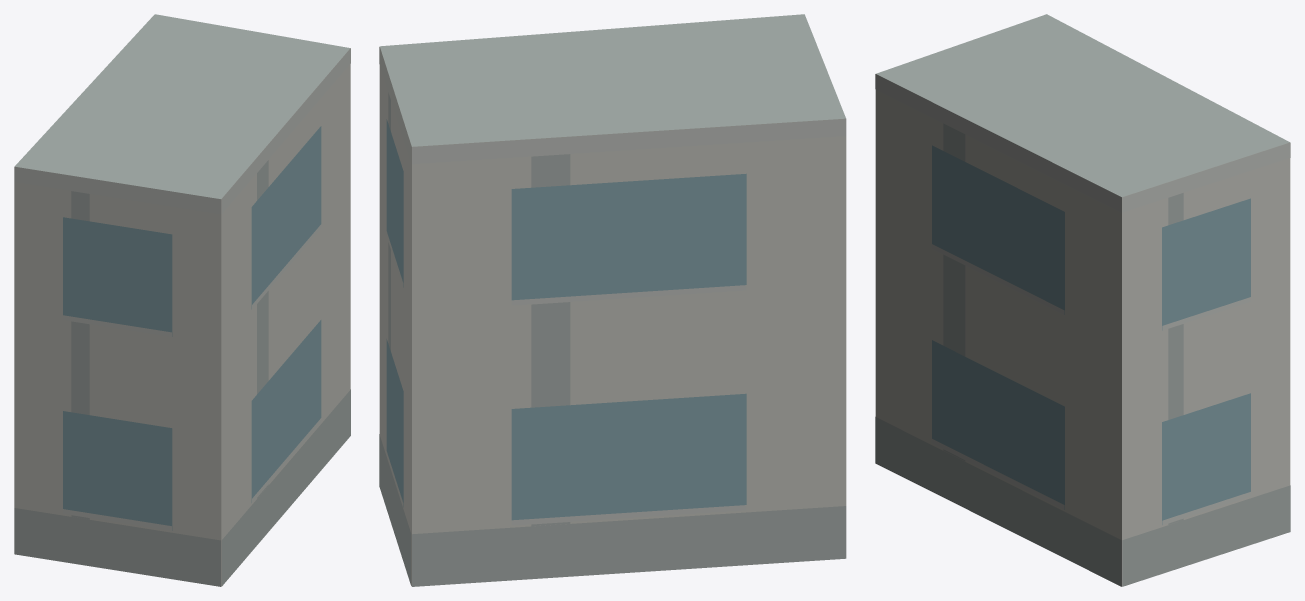
File: survey-upis-32571814.glb
3 renders of one model, left to right at view 1: azimuth 30°, elevation 25°; view 2: azimuth 150°, elevation 25°; view 3: azimuth 270°, elevation 25°, orthographic. The views are drawn at different scales.
Visible parts, largest first — view 1: survey-upis-32571814.tmp; view 2: survey-upis-32571814.tmp; view 3: survey-upis-32571814.tmp.
Part boxes in pixels (left/top/right/bottom): survey-upis-32571814.tmp: left=14, top=14, right=350, bottom=586; survey-upis-32571814.tmp: left=379, top=14, right=846, bottom=586; survey-upis-32571814.tmp: left=875, top=14, right=1290, bottom=586.
Bounding box in the file's own units: 6.16 × 6.1 × 5.89.
